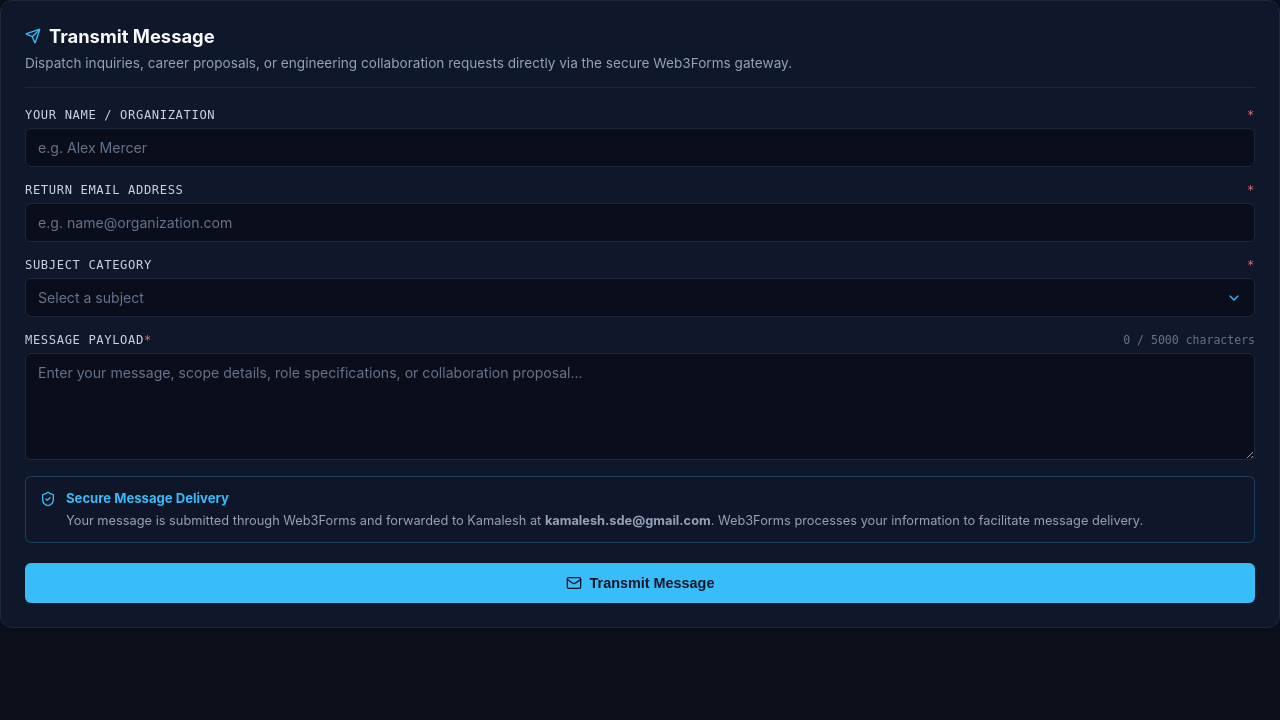
Test: KAI HQ Feature Enhancement Batch Test Suite › Feature 4 & 6: Communication Center Web3Forms Transmission & Disclaimer › submits to Web3Forms API and resets fields on success
Later steps or results of the test are not shown.
Type "Ada Lovelace" into the field labelled "Your Name / Organization *" at (640, 148), box left=25, top=128, right=1255, bottom=167
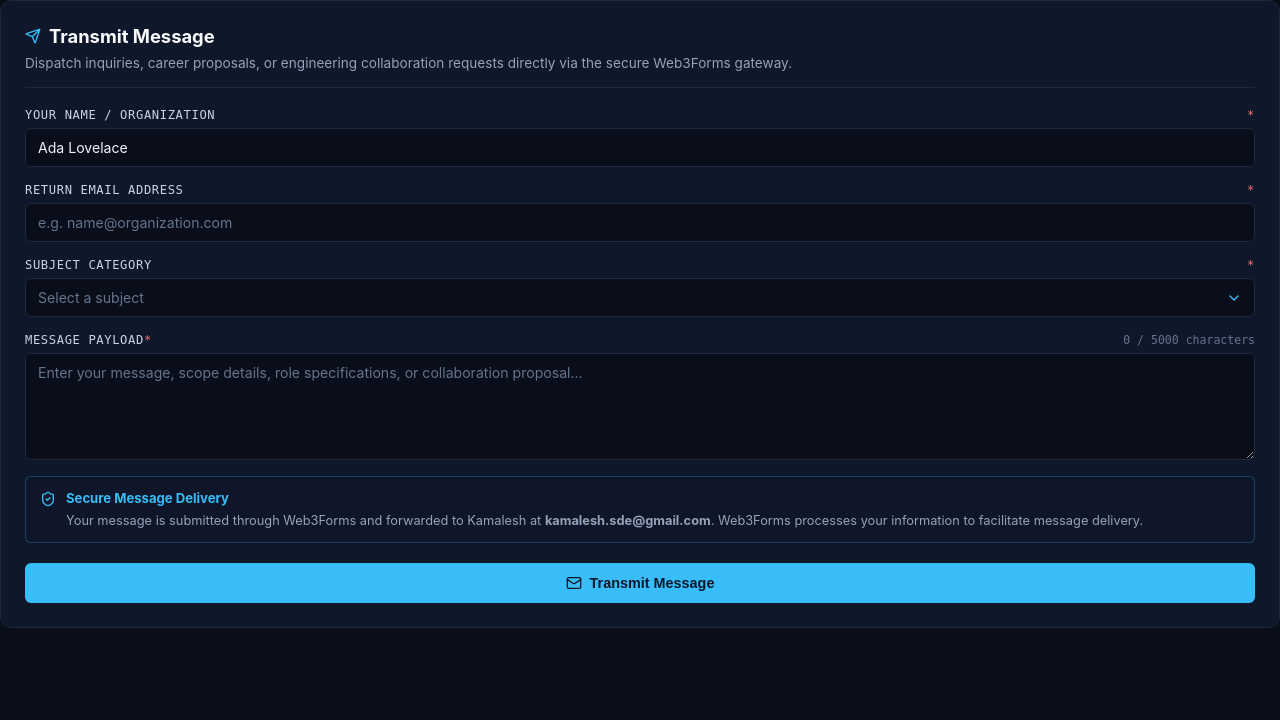
Type "ada@example.com" into the field labelled "Return Email Address *" at (640, 223), box left=25, top=203, right=1255, bottom=242
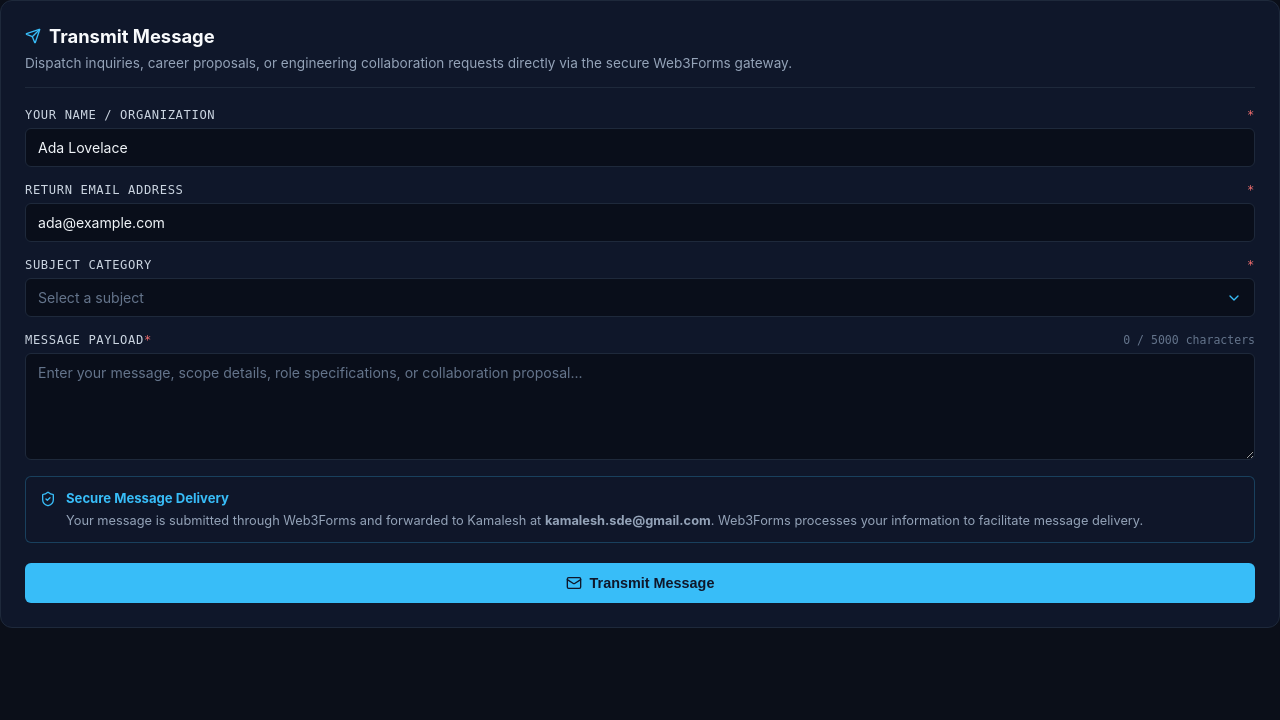
Select "Job Opportunity" in the dropdown labelled "Subject Category *" at (88, 265), box left=25, top=258, right=1255, bottom=272
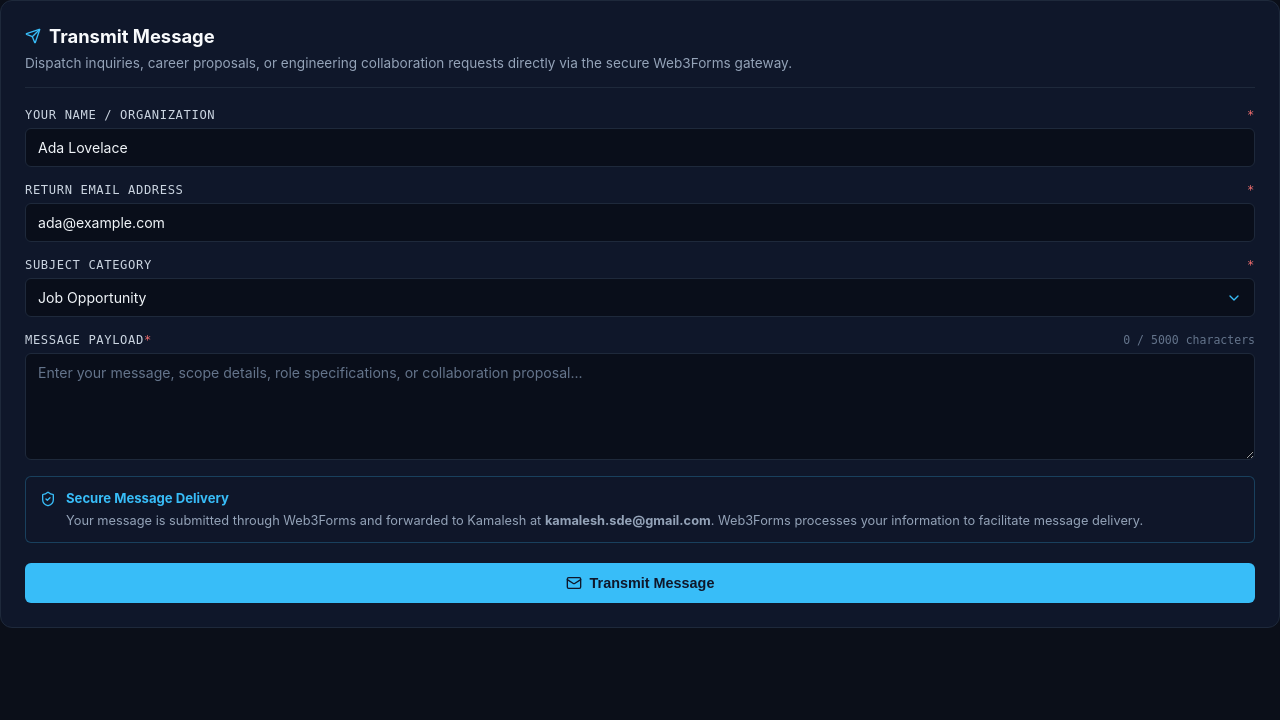
Replace the text in the text box labelled "Message Payload *" with "Hello Kamalesh, we would love to discuss an engineering role with our team." at (640, 407), box left=25, top=353, right=1255, bottom=460
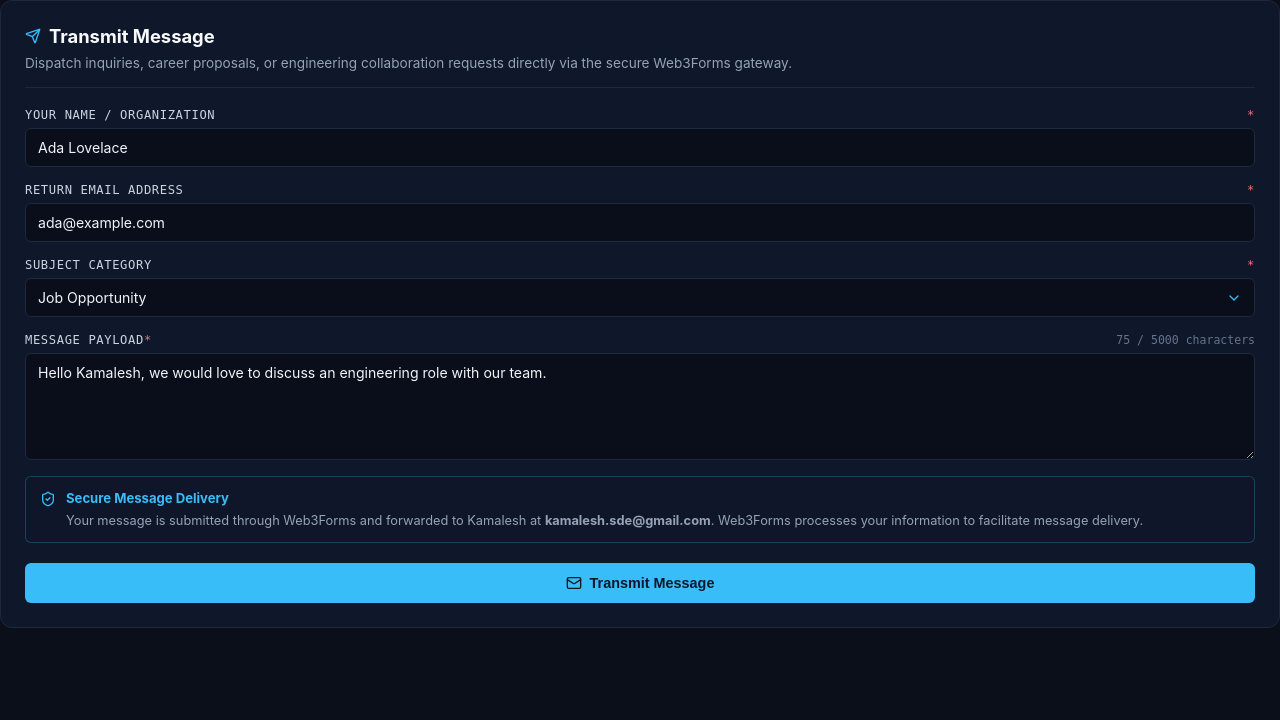
Click the button with aria-label "Transmit Message via Web3Forms" at (640, 583), box left=25, top=563, right=1255, bottom=603
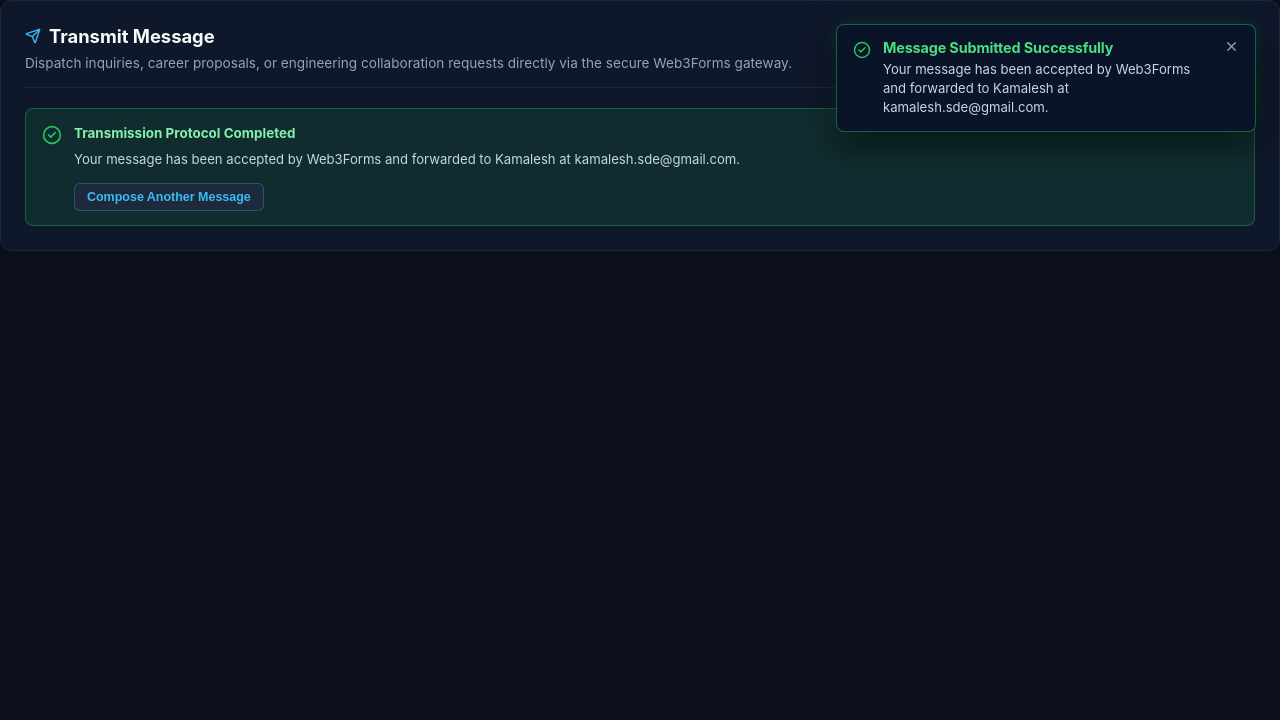
Check: the text "Transmission Protocol Completed" is shown, box left=74, top=125, right=296, bottom=141
Note: Click Compose Another Message to verify form was reset
Click the button "Compose Another Message" at (169, 197), box left=74, top=183, right=264, bottom=211
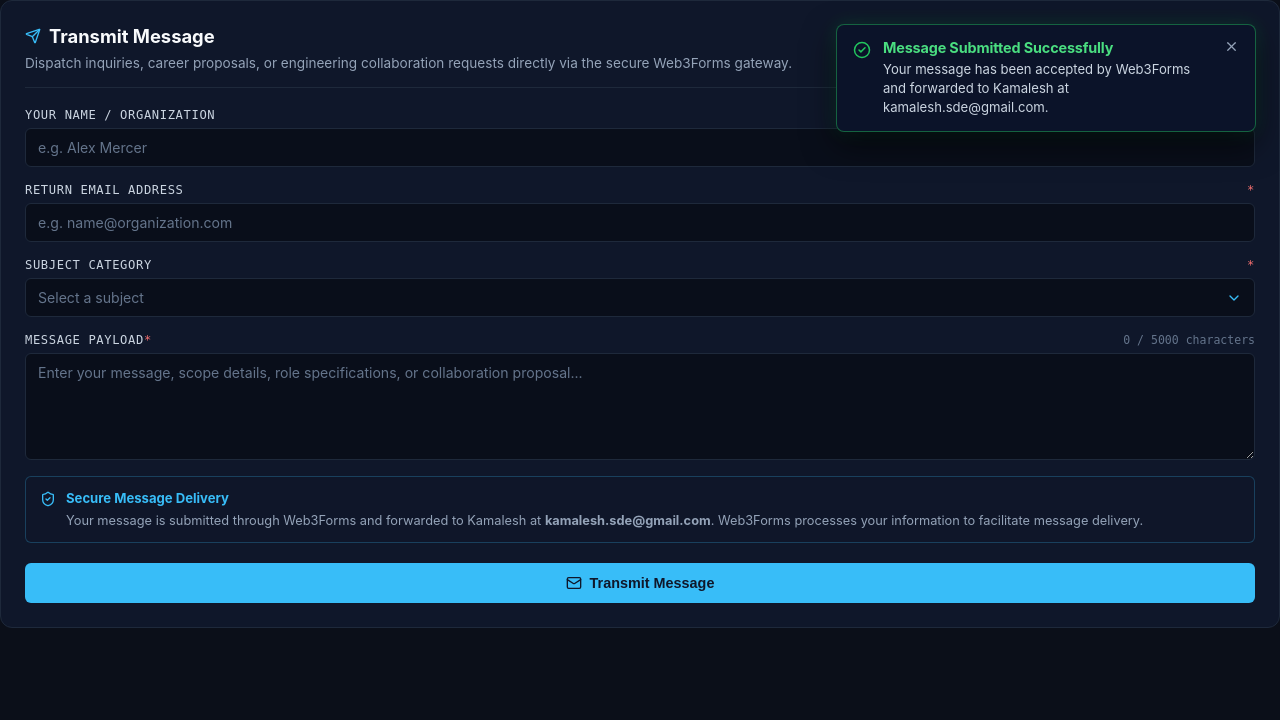
Check: the field labelled "Your Name / Organization *" is empty, box left=25, top=128, right=1255, bottom=167
